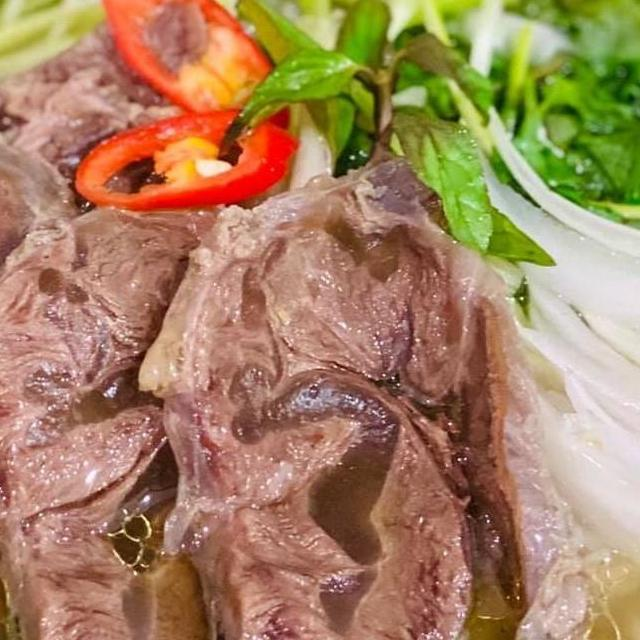thit bo: (120, 140, 493, 640), (0, 185, 310, 640), (0, 0, 215, 236), (0, 100, 90, 552)
